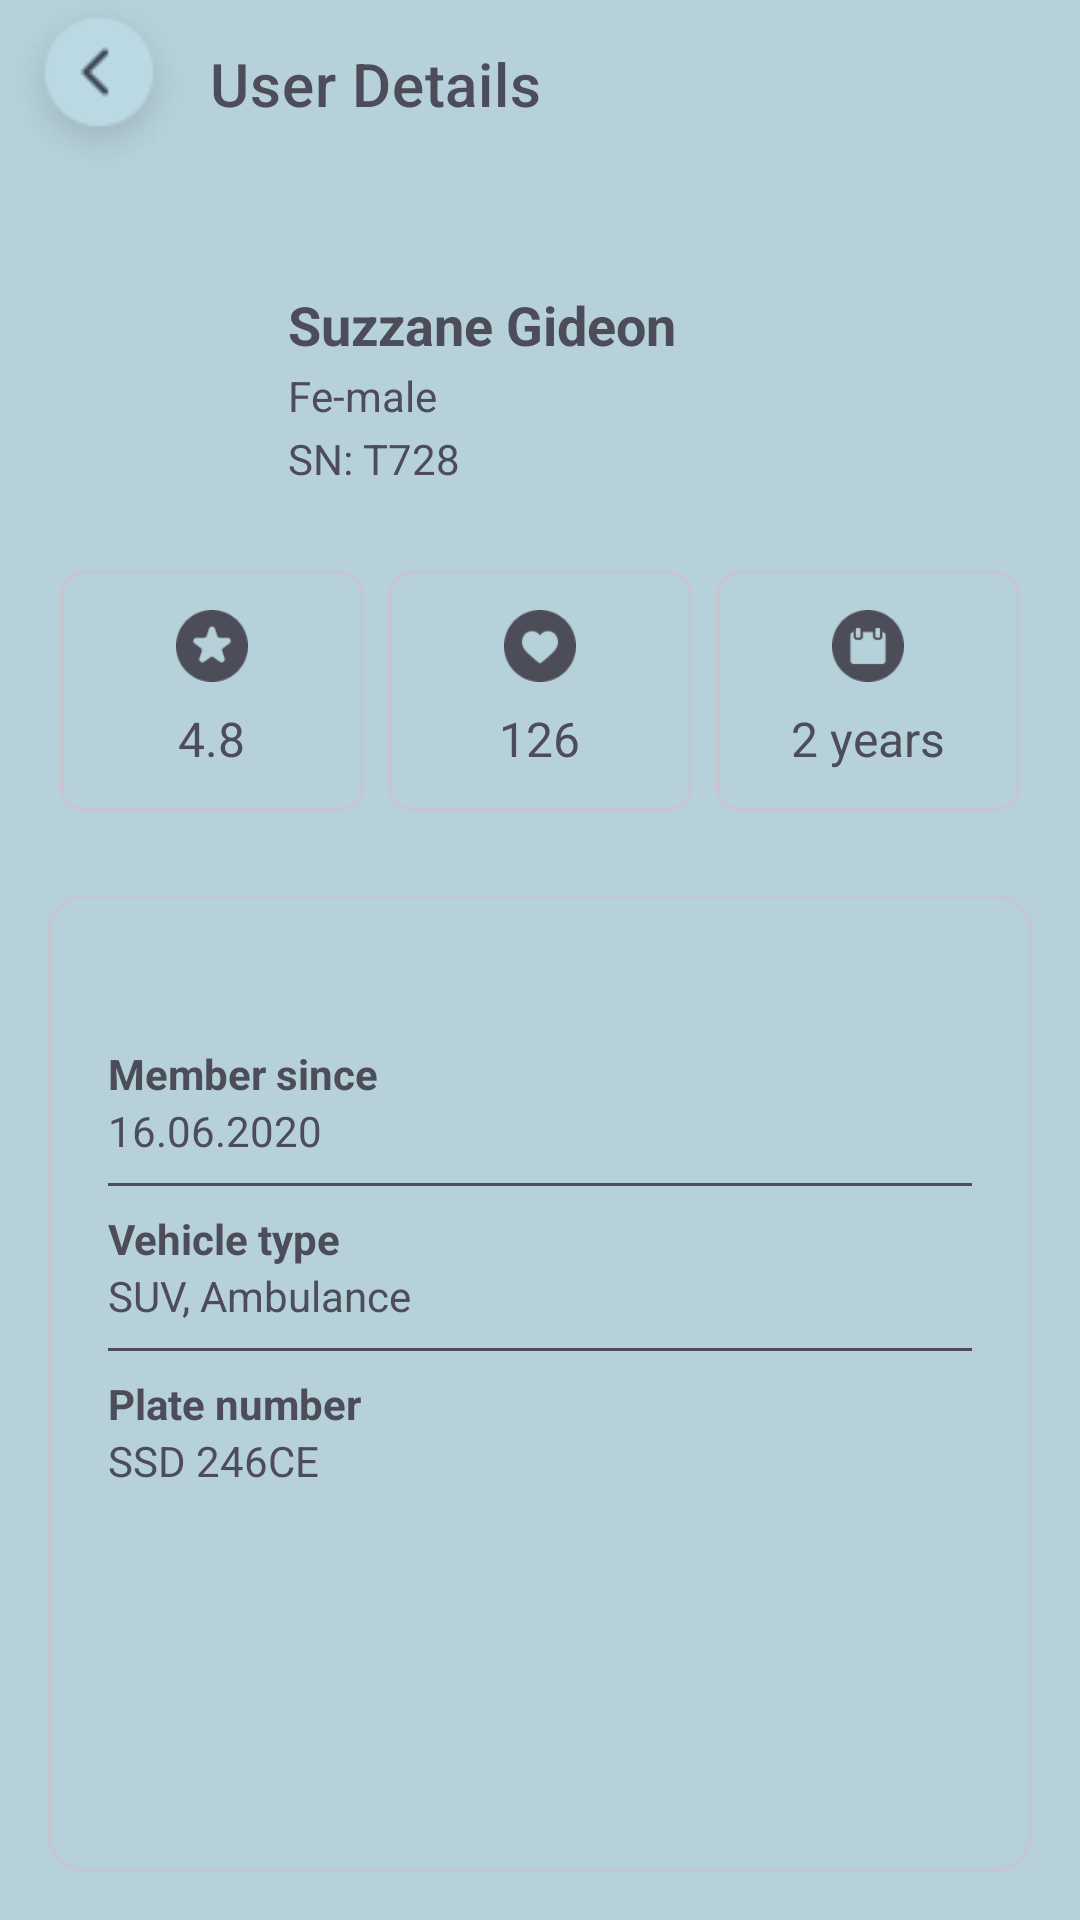

Screen size 1080*1920. Icon name, then its box in pixels as (x1, y1, x2, y2):
calendar: (832, 610, 904, 682)
heart: (504, 610, 576, 682)
star: (176, 610, 248, 682)
